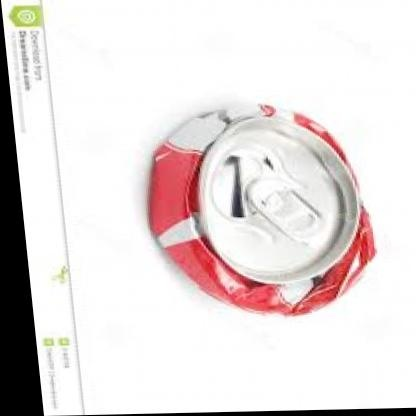trash: (149, 105, 374, 313)
